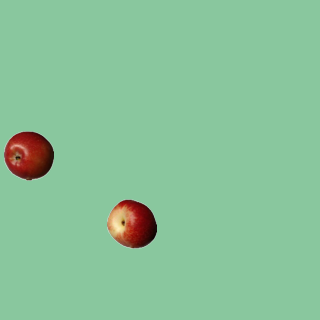Apple Braeburn: (3, 130, 53, 180)
Nectarine: (106, 198, 156, 248)
